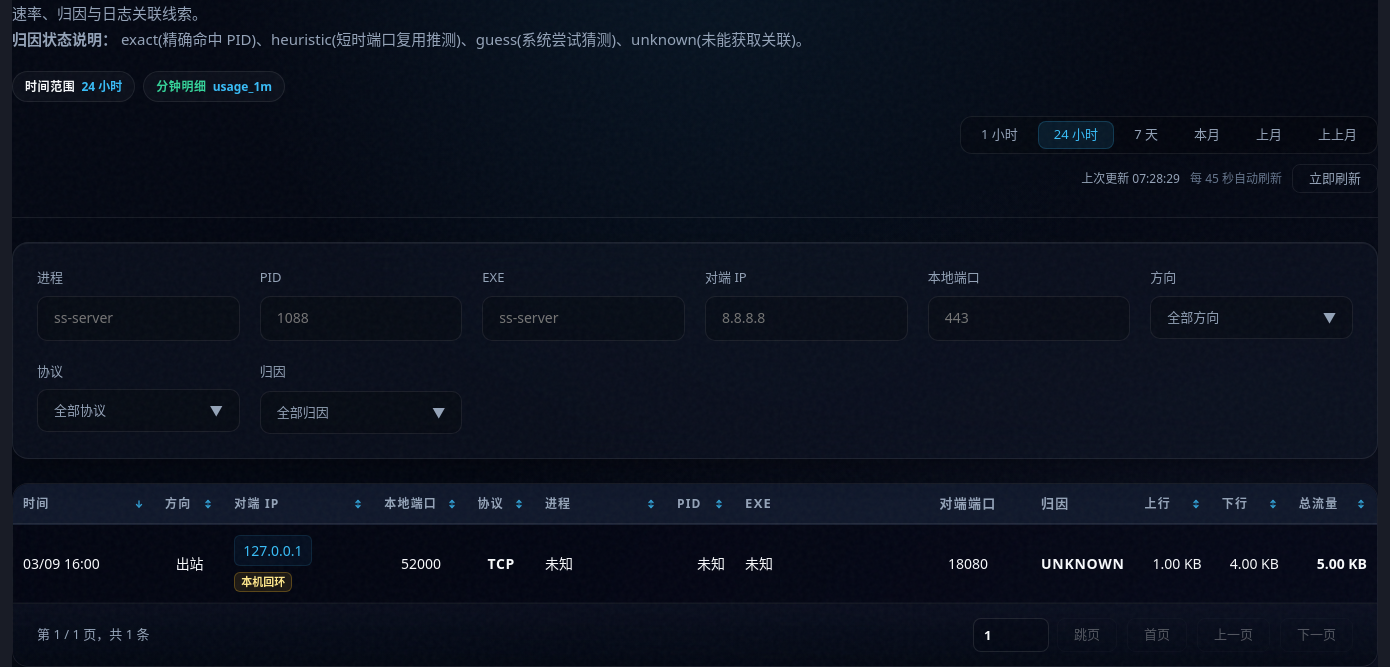
Test: traffic-go web ui › shows loopback linkage candidates in usage details
This screenshot has width=1390, height=667.
(page scrolled)
Check: the text "本机回环" is shown, box top-left (234, 572), bottom-right (292, 592)
Click the row named "展开详情".
click(695, 564)  # box top-left (13, 525), bottom-right (1377, 603)
(page scrolled)
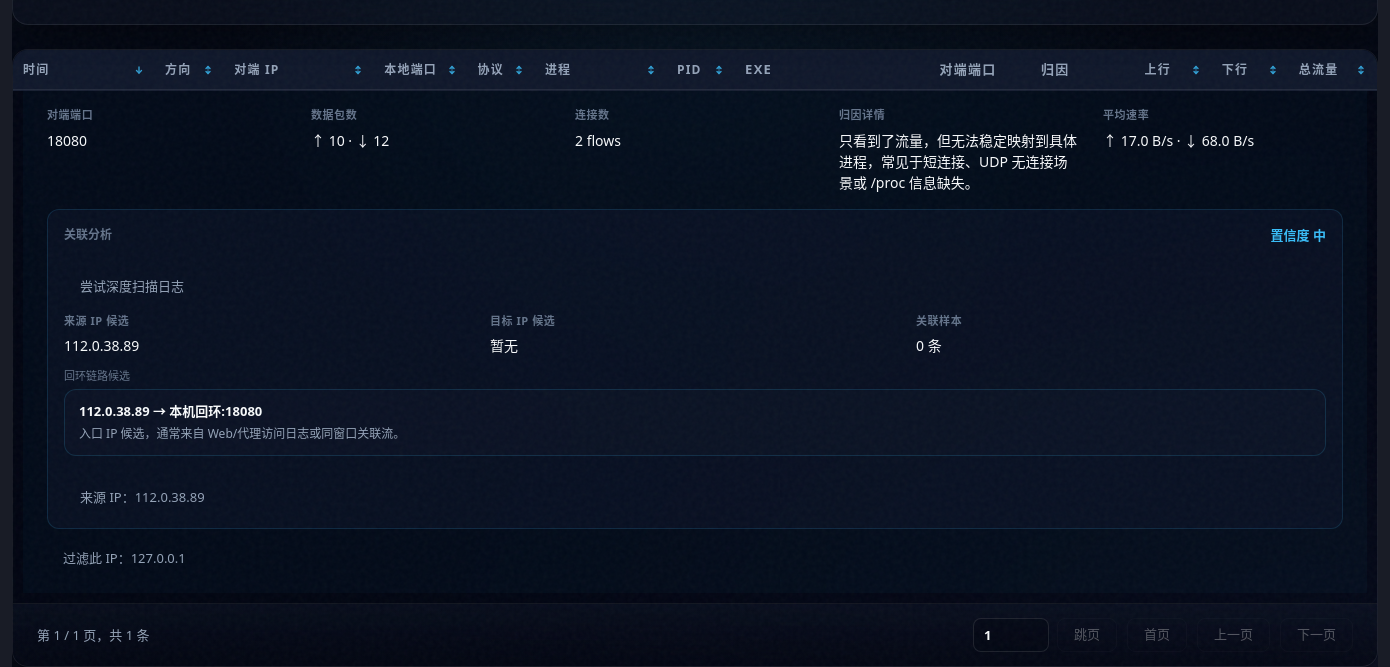
Check: the text "回环链路候选" is shown, box top-left (64, 368), bottom-right (130, 383)
Check: the text "112.0.38.89 → 本机回环:18080" is shown, box top-left (79, 402), bottom-right (262, 420)
